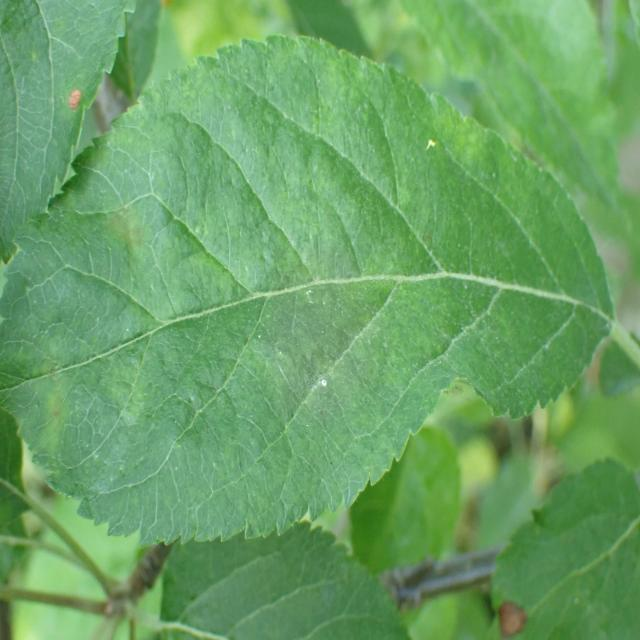scab: (5, 148, 489, 465)
